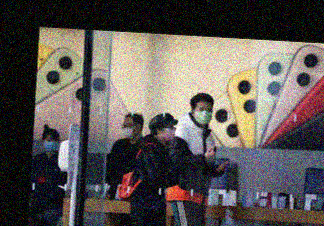with_mask: (194, 105, 212, 125), (121, 119, 136, 139), (43, 135, 58, 153), (161, 124, 176, 141)
